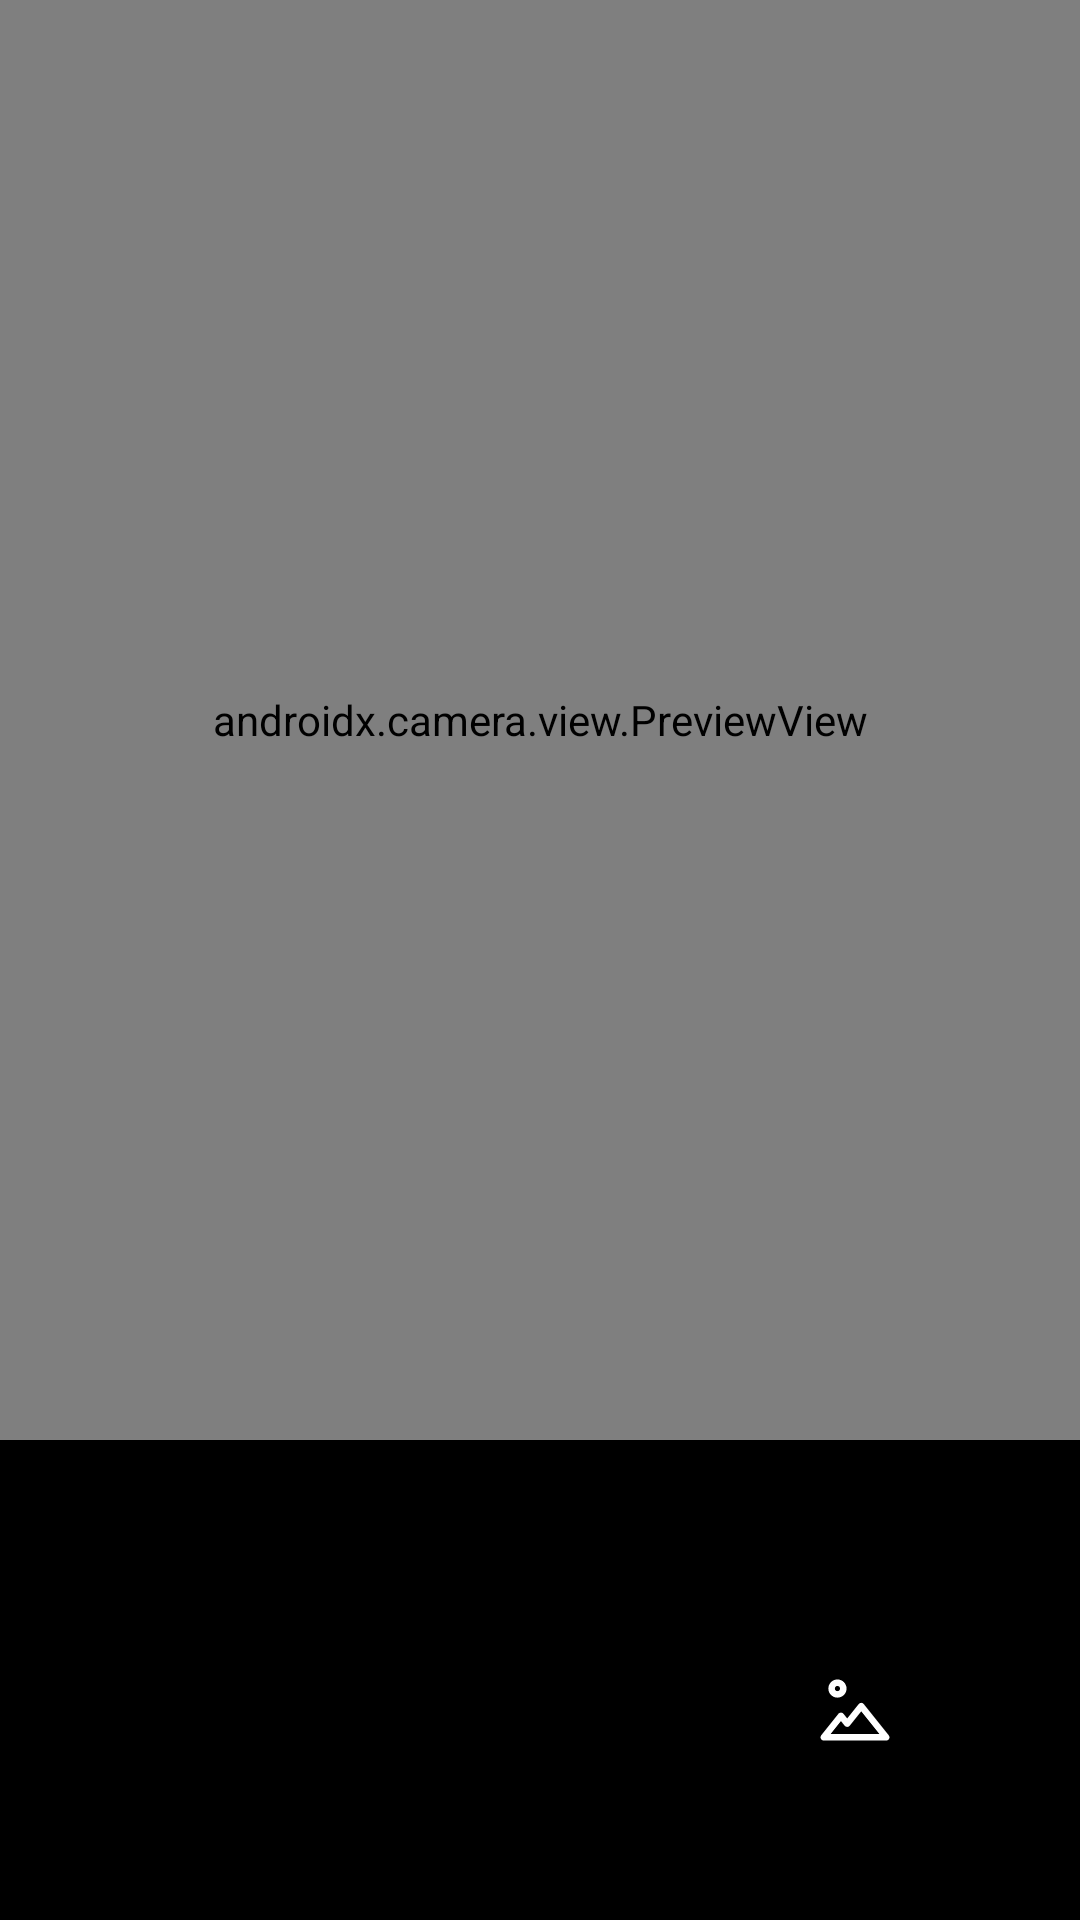

Screen size 1080 × 1920. Icon name, then its center in pixels as point (x, y):
gallery no borders: point (855, 1710)
